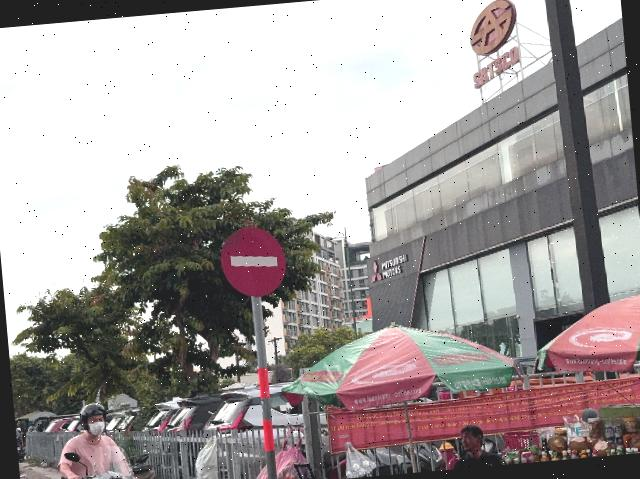cam-di-nguoc-chieu: (218, 223, 288, 299)
